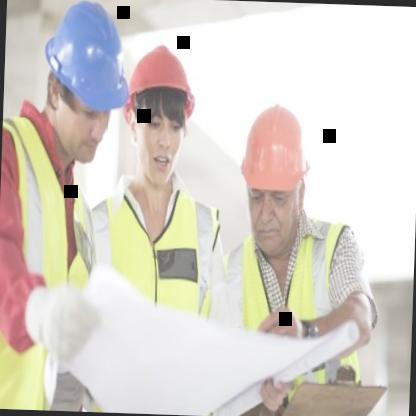helmet: (28, 0, 132, 170), (116, 29, 209, 192), (230, 86, 315, 258)
